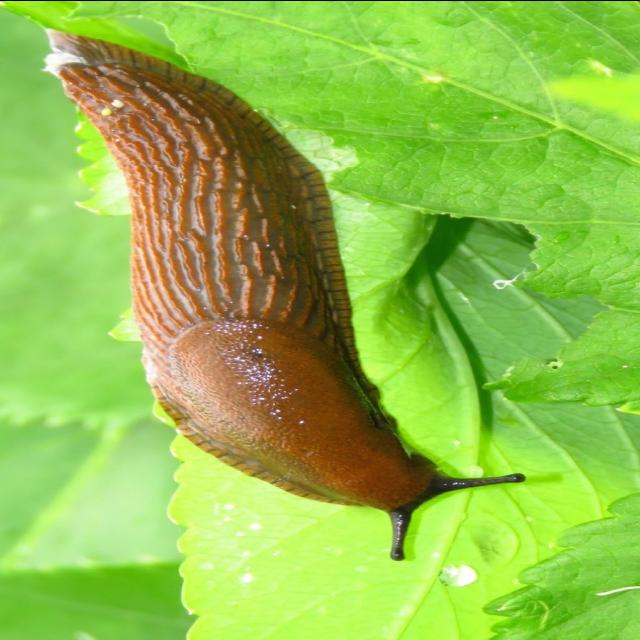slug: (28, 11, 524, 563)
